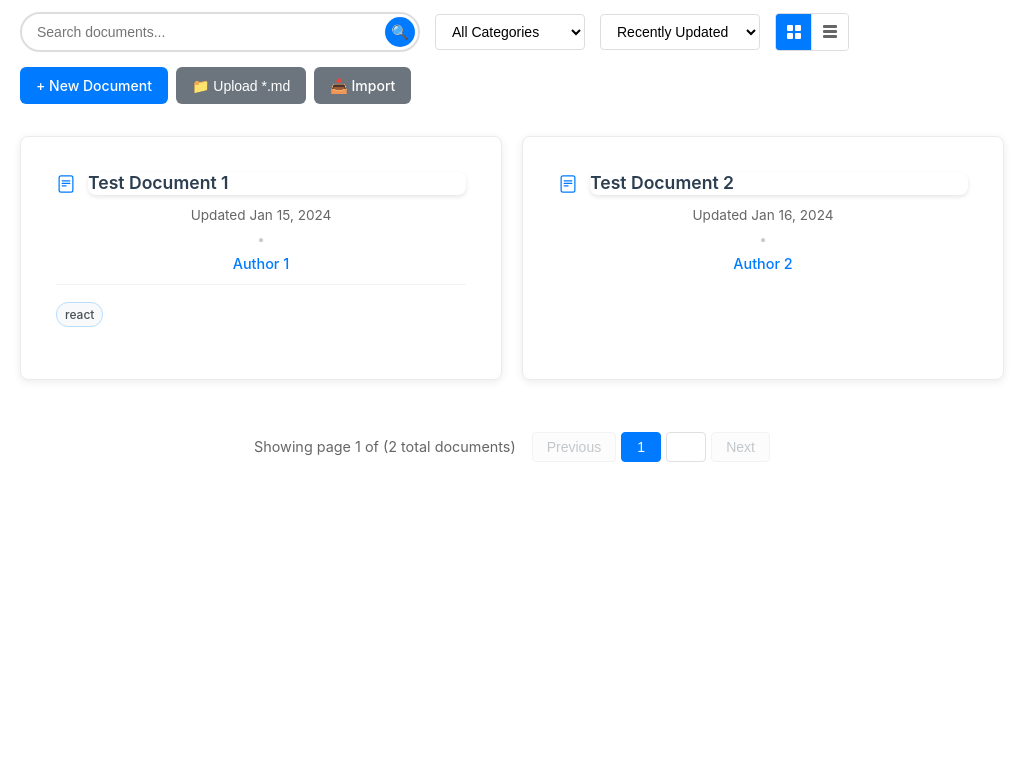
Scenario: DocumentList › upload section › shows upload section when upload button clicked
Click the button "📁 Upload *.md" at point(241, 86), box [176,67,306,104]
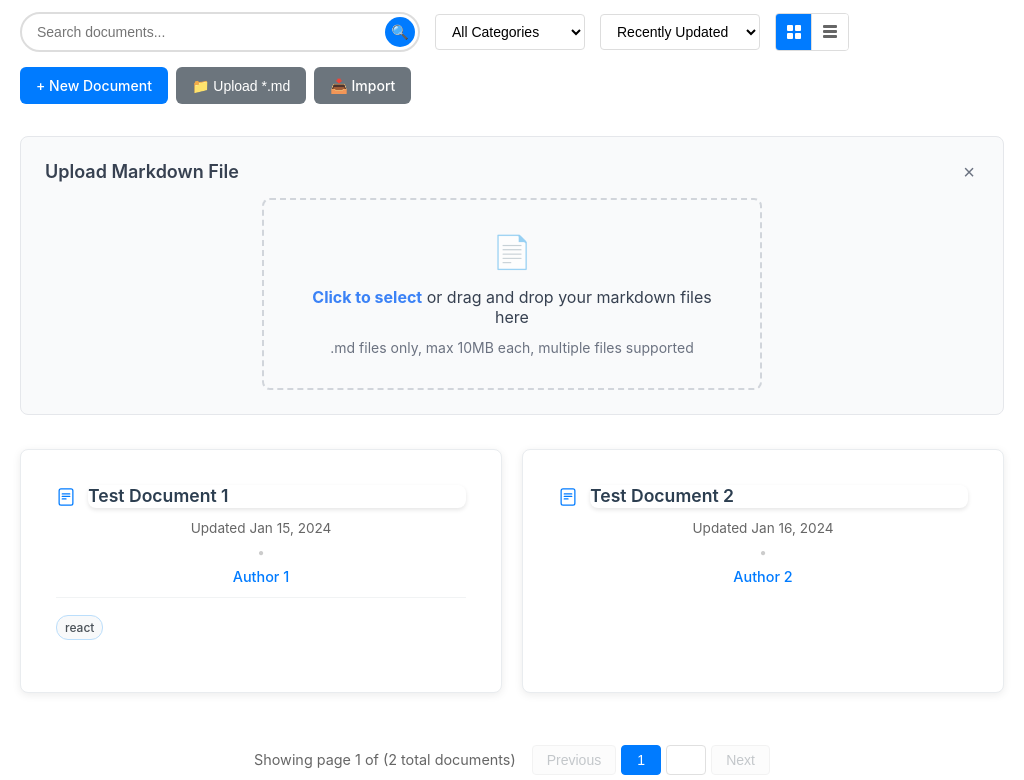
Result: the heading "Upload Markdown File" is shown at [45,161,239,182]
